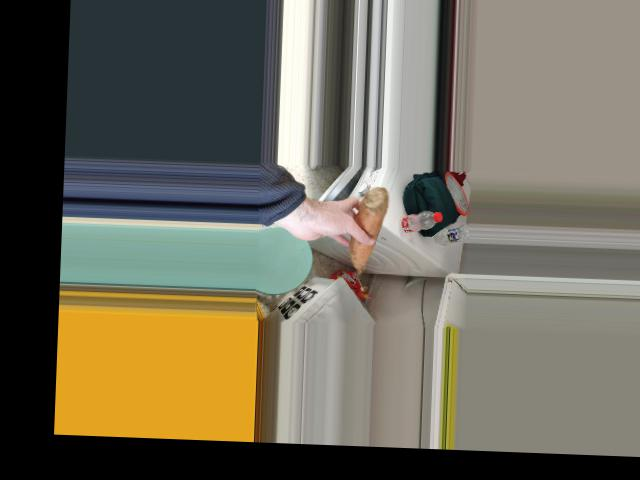sweet_potato: (353, 186, 383, 278)
